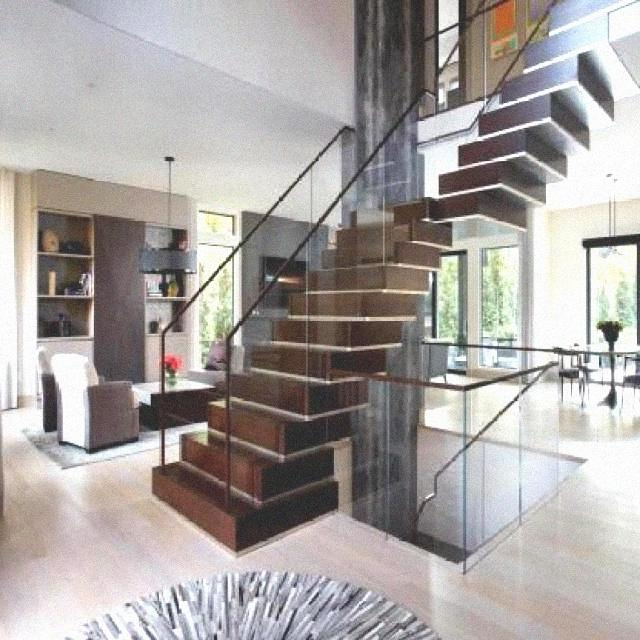stair: (132, 166, 482, 540)
